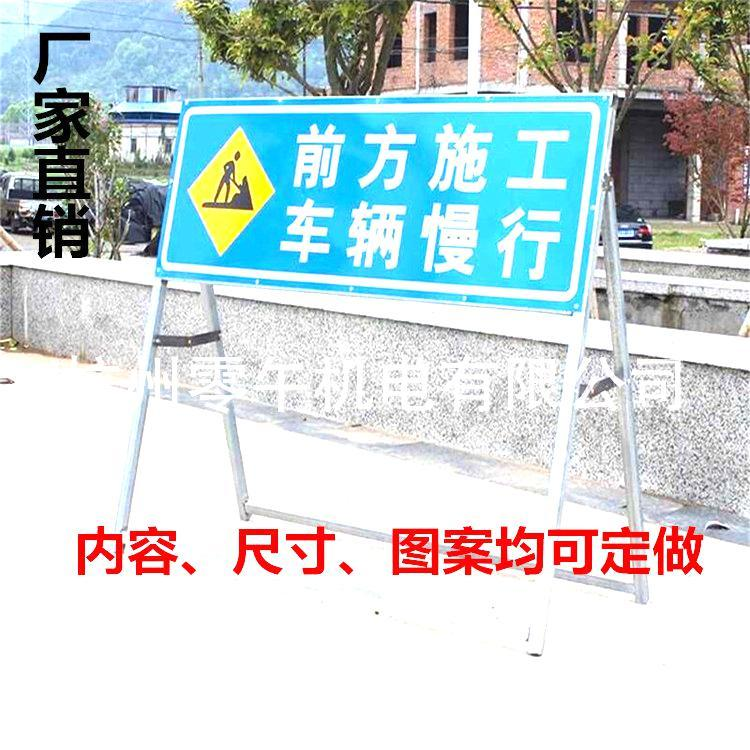sign: (168, 102, 597, 310)
